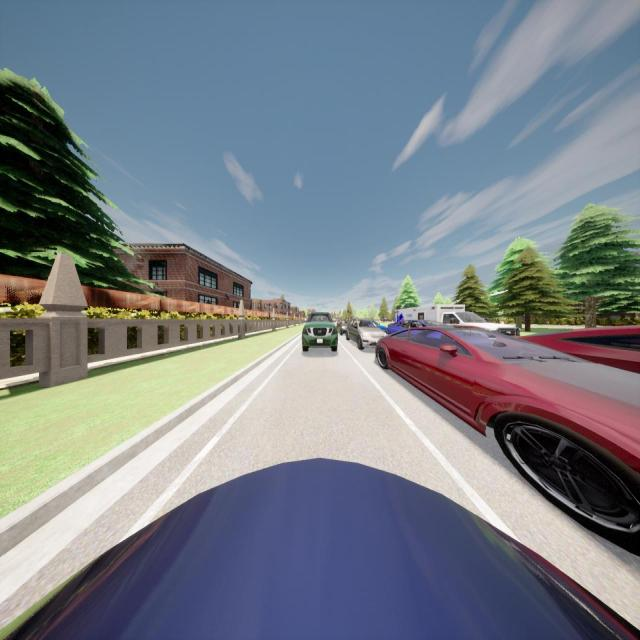Vehicle: (1, 456, 640, 640), (375, 324, 639, 553), (513, 315, 640, 374), (394, 303, 520, 336), (302, 312, 338, 351), (346, 318, 387, 351), (388, 320, 443, 334), (337, 318, 348, 336)
